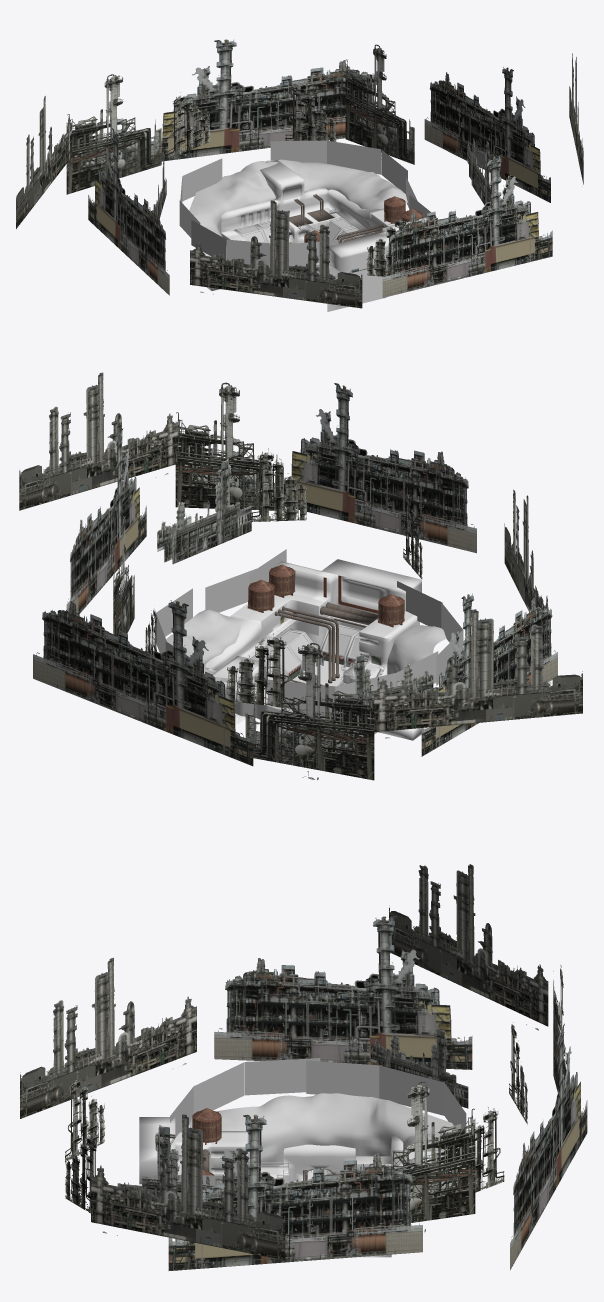
Rendered from Factory_01.fbx.
3 views of the same model, one above another, from view 1: azimuth 30°, elevation 25°; view 2: azimuth 150°, elevation 25°; view 3: azimuth 270°, elevation 25° (orthographic). The views are drawn at different scales.
Visible parts, largest first — view 1: Factory Illusion, Factory_01 Building, VEGI Row of Trees, Factory_01 Mountains, WATER CANISTER, Factory_01 Glass, Factory_01 Pipes, Structure; view 2: Factory Illusion, Factory_01 Building, VEGI Row of Trees, Factory_01 Mountains, Factory_01 Pipes, WATER CANISTER, Factory_01 Glass, Structure; view 3: Factory Illusion, Factory_01 Mountains, VEGI Row of Trees, Factory_01 Building, WATER CANISTER.
Boxes of the visible parts, x1,y1,x2,y2 form: Factory Illusion: (16, 39, 583, 308); Factory_01 Building: (203, 160, 426, 311); VEGI Row of Trees: (179, 140, 436, 267); Factory_01 Mountains: (189, 159, 407, 252); WATER CANISTER: (304, 196, 422, 242); Factory_01 Glass: (238, 219, 363, 242); Factory_01 Pipes: (294, 194, 387, 267); Structure: (233, 217, 365, 243); Factory Illusion: (19, 372, 582, 780); Factory_01 Building: (205, 559, 421, 740); VEGI Row of Trees: (156, 549, 463, 715); Factory_01 Mountains: (166, 609, 446, 719); Factory_01 Pipes: (274, 575, 378, 683); WATER CANISTER: (247, 564, 404, 627); Factory_01 Glass: (252, 626, 360, 680); Structure: (251, 624, 361, 682); Factory Illusion: (20, 864, 587, 1270); Factory_01 Mountains: (189, 1093, 466, 1166); VEGI Row of Trees: (170, 1058, 475, 1185); Factory_01 Building: (139, 1117, 444, 1257); WATER CANISTER: (192, 1108, 221, 1175).
Size of the model in its own units: 263 by 99.46 by 192.
